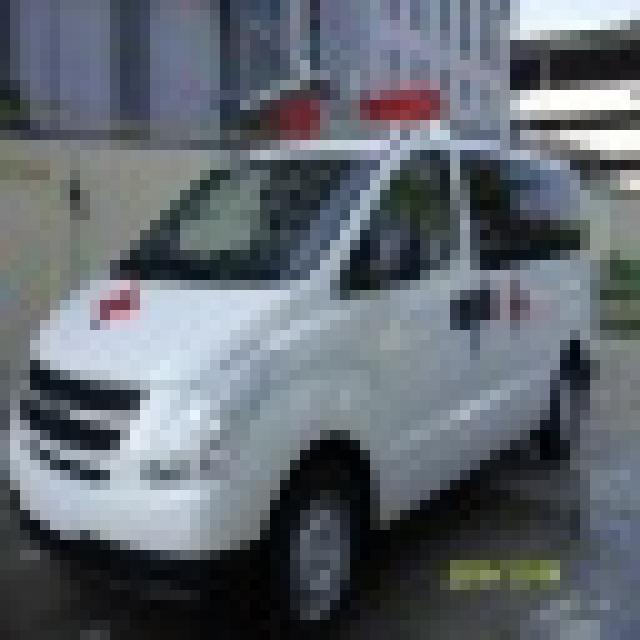Ambulance: (0, 70, 600, 630)
